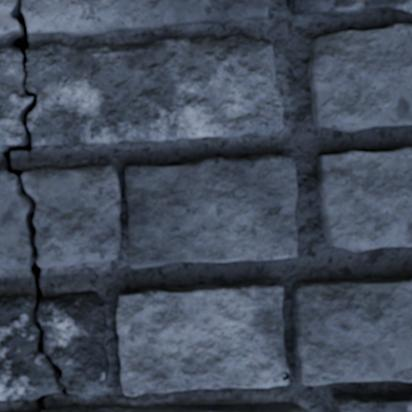brick: (117, 279, 287, 395), (123, 155, 297, 267), (291, 279, 411, 384), (308, 24, 411, 131), (317, 147, 411, 251), (289, 0, 411, 15), (333, 394, 411, 411)
broken_brick: (27, 34, 284, 146), (23, 164, 124, 268), (23, 0, 268, 37), (38, 289, 109, 399), (0, 293, 55, 401), (0, 47, 31, 148), (0, 169, 29, 269), (44, 401, 308, 411), (0, 0, 20, 40), (2, 409, 40, 411)
crack: (0, 0, 73, 411), (281, 371, 289, 385)
